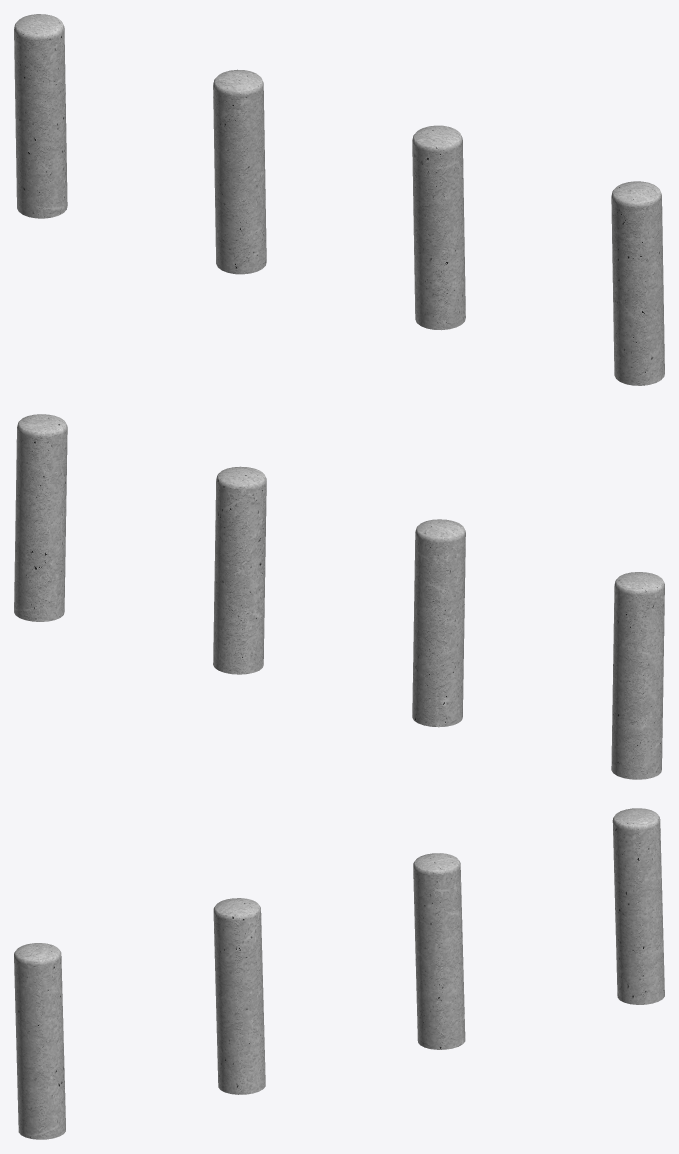
The model's file is bloker0.glb.
3 renders of one model, top to bottom at view 1: azimuth 30°, elevation 25°; view 2: azimuth 210°, elevation 25°; view 3: azimuth 270°, elevation 25°, orthographic. The views are drawn at different scales.
Parts seen in each view (by area): view 1: PostBarrier2_PostBarrier_shader_0; view 2: PostBarrier2_PostBarrier_shader_0; view 3: PostBarrier2_PostBarrier_shader_0.
Boxes of the visible parts, x1,y1,x2,y2 form: PostBarrier2_PostBarrier_shader_0: (14, 14, 664, 385); PostBarrier2_PostBarrier_shader_0: (14, 414, 664, 779); PostBarrier2_PostBarrier_shader_0: (14, 808, 664, 1139).
Size of the model in its own units: 1.87 by 1.05 by 3.37.
Materials: 1 (1 with a texture image).
